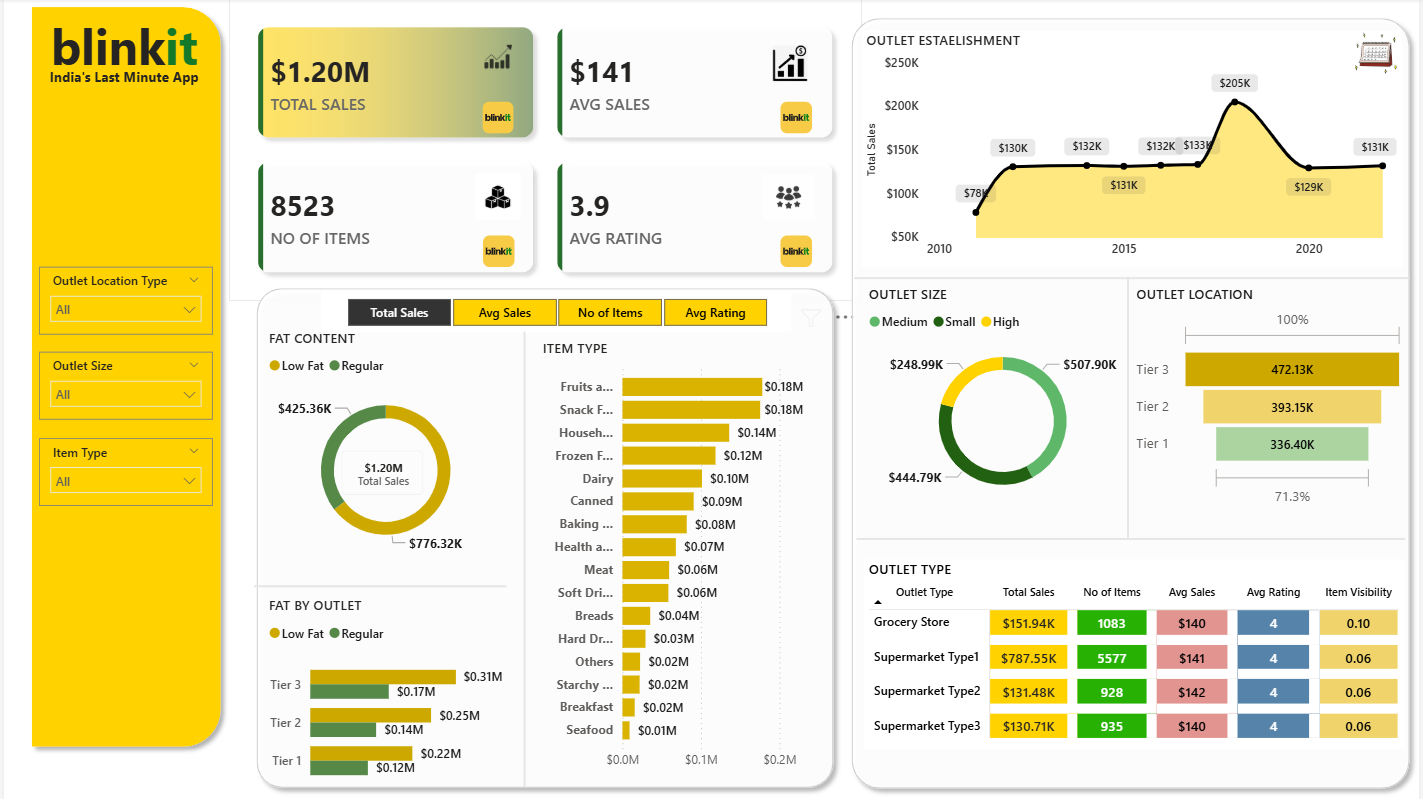

The page's visual inventory and layout, read from the dashboard file:
{"tool":"powerbi","page":{"name":"Page 1","canvas":[1400,800],"ordinal":0},"visuals":[{"type":"shape","box":[18,0,205,750],"z":0},{"type":"textbox","box":[22.5,10.5,193.6,108.1],"z":1000},{"type":"textbox","box":[22.5,64.5,193.6,33],"z":2000},{"type":"cardVisual","fields":{"Data":["BlinkIT Grocery Data.Total Sales","BlinkIT Grocery Data.Avg Sales","BlinkIT Grocery Data.No of Items","BlinkIT Grocery Data.Avg Rating"]},"box":[222.5,0,626,300],"z":3000},{"type":"image","box":[466.8,36,45,45],"z":4000},{"type":"image","box":[760.9,46.5,35,35],"z":5000},{"type":"image","box":[466.8,174.1,45,45],"z":6000},{"type":"image","box":[750.4,174.1,51,45],"z":7000},{"type":"shape","box":[241.3,278.8,588.5,512.1],"z":8000},{"type":"donutChart","title":"FAT CONTENT","fields":{"Y":["BlinkIT Grocery Data.Total Sales"],"Category":["BlinkIT Grocery Data.Item Fat Content"]},"box":[257.4,327.1,241.3,235.9],"z":9000},{"type":"slicer","fields":{"Values":["Metrics.Metrics"]},"box":[313.7,290.9,465.1,40.2],"z":10000},{"type":"cardVisual","fields":{"Data":["BlinkIT Grocery Data.Total Sales"]},"box":[334.5,447.7,81.4,44.5],"z":11000},{"type":"clusteredBarChart","title":"FAT BY OUTLET","fields":{"Y":["BlinkIT Grocery Data.Total Sales"],"Category":["BlinkIT Grocery Data.Outlet Location Type"],"Series":["BlinkIT Grocery Data.Item Fat Content"]},"box":[257.4,591.2,241.3,199.7],"z":12000},{"type":"shape","box":[248,572.4,250,18.8],"z":13000},{"type":"shape","box":[500,329.8,30.8,450.4],"z":14000},{"type":"barChart","title":"ITEM TYPE","fields":{"Y":["BlinkIT Grocery Data.Total Sales"],"Category":["BlinkIT Grocery Data.Item Type"]},"box":[528,336.5,285,435.7],"z":15000},{"type":"shape","box":[829.8,10.7,569.7,780.2],"z":16000},{"type":"lineChart","title":"OUTLET ESTAELISHMENT","fields":{"Category":["BlinkIT Grocery Data.Outlet Establishment Year"],"Y":["BlinkIT Grocery Data.Total Sales"]},"box":[848.5,32.2,534.9,234.6],"z":17000},{"type":"shape","box":[840.5,266.8,549.6,20.1],"z":18000},{"type":"donutChart","title":"OUTLET SIZE","fields":{"Y":["BlinkIT Grocery Data.Total Sales"],"Category":["BlinkIT Grocery Data.Outlet Size"]},"box":[851.2,282.8,274.8,225.2],"z":19000},{"type":"shape","box":[1100.5,276.1,22.8,258.7],"z":20000},{"type":"funnel","title":"OUTLET LOCATION","fields":{"Y":["Sum(BlinkIT Grocery Data.Sales)"],"Category":["BlinkIT Grocery Data.Outlet Location Type"]},"box":[1115.3,282.8,275,225],"z":21000},{"type":"pivotTable","title":"OUTLET TYPE","fields":{"Rows":["BlinkIT Grocery Data.Outlet Type"],"Values":["BlinkIT Grocery Data.Total Sales","BlinkIT Grocery Data.No of Items","BlinkIT Grocery Data.Avg Sales","BlinkIT Grocery Data.Avg Rating","Avg(BlinkIT Grocery Data.Item Visibility)"]},"box":[851.2,555,534.9,187.7],"z":22000},{"type":"shape","box":[843.2,506.7,543,56.3],"z":23000},{"type":"slicer","fields":{"Values":["BlinkIT Grocery Data.Outlet Location Type"]},"box":[34.3,265.8,171.7,67.4],"z":24000},{"type":"slicer","fields":{"Values":["BlinkIT Grocery Data.Outlet Size"]},"box":[34.3,349.7,171.7,67.4],"z":25000},{"type":"slicer","fields":{"Values":["BlinkIT Grocery Data.Item Type"]},"box":[34.3,435,171.7,67.4],"z":26000},{"type":"image","box":[471.9,103.2,34.9,30.8],"z":27000},{"type":"image","box":[761.4,103.2,44.2,30.8],"z":28000},{"type":"image","box":[761.4,234.6,44.2,30.8],"z":29000},{"type":"image","box":[467.8,234.6,44.2,30.8],"z":30000},{"type":"image","box":[1331.1,30.8,52.3,49.6],"z":31000}]}

Visuals, with their boxes in screenshot pixels (x1, y1, x2, y2), scaled from the page's 1400x800 canvas onto the 1423x799 screenshot:
shape: select_region(18, 0, 227, 749)
textbox: select_region(23, 10, 220, 118)
textbox: select_region(23, 64, 220, 97)
cardVisual - BlinkIT Grocery Data.Total Sales x BlinkIT Grocery Data.Avg Sales: select_region(226, 0, 862, 300)
image: select_region(474, 36, 520, 81)
image: select_region(773, 46, 809, 81)
image: select_region(474, 174, 520, 219)
image: select_region(763, 174, 815, 219)
shape: select_region(245, 278, 843, 790)
"FAT CONTENT" donutChart: select_region(262, 327, 507, 562)
slicer - Metrics.Metrics: select_region(319, 291, 792, 331)
cardVisual - BlinkIT Grocery Data.Total Sales: select_region(340, 447, 423, 492)
"FAT BY OUTLET" clusteredBarChart: select_region(262, 590, 507, 790)
shape: select_region(252, 572, 506, 590)
shape: select_region(508, 329, 540, 779)
"ITEM TYPE" barChart: select_region(537, 336, 826, 771)
shape: select_region(843, 11, 1422, 790)
"OUTLET ESTAELISHMENT" lineChart: select_region(862, 32, 1406, 266)
shape: select_region(854, 266, 1413, 287)
"OUTLET SIZE" donutChart: select_region(865, 282, 1144, 507)
shape: select_region(1119, 276, 1142, 534)
"OUTLET LOCATION" funnel: select_region(1134, 282, 1413, 507)
"OUTLET TYPE" pivotTable: select_region(865, 554, 1409, 742)
shape: select_region(857, 506, 1409, 562)
slicer - BlinkIT Grocery Data.Outlet Location Type: select_region(35, 265, 209, 333)
slicer - BlinkIT Grocery Data.Outlet Size: select_region(35, 349, 209, 417)
slicer - BlinkIT Grocery Data.Item Type: select_region(35, 434, 209, 502)
image: select_region(480, 103, 515, 134)
image: select_region(774, 103, 819, 134)
image: select_region(774, 234, 819, 265)
image: select_region(475, 234, 520, 265)
image: select_region(1353, 31, 1406, 80)
